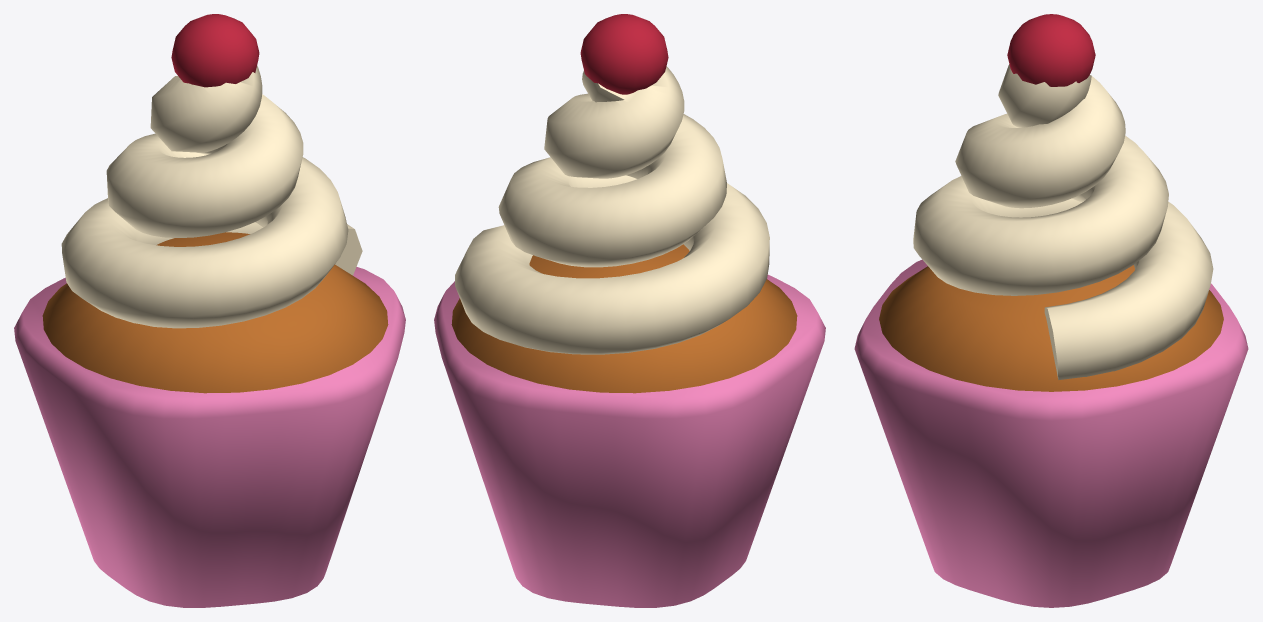
File: cupcake.glb
3 views of the same model, side by side, from view 1: azimuth 30°, elevation 25°; view 2: azimuth 150°, elevation 25°; view 3: azimuth 270°, elevation 25° (orthographic).
Parts seen in each view (by area): view 1: container_paper, edible_frosting, edible_cake, edible_berry.153; view 2: container_paper, edible_frosting, edible_cake, edible_berry.153; view 3: container_paper, edible_frosting, edible_cake, edible_berry.153.
Boxes of the visible parts, x1=… form: container_paper: x1=14, y1=267, x2=405, y2=607; edible_frosting: x1=61, y1=65, x2=362, y2=328; edible_cake: x1=42, y1=232, x2=388, y2=393; edible_berry.153: x1=171, y1=14, x2=259, y2=87; container_paper: x1=434, y1=274, x2=825, y2=607; edible_frosting: x1=455, y1=66, x2=769, y2=354; edible_cake: x1=451, y1=244, x2=797, y2=393; edible_berry.153: x1=580, y1=14, x2=668, y2=94; container_paper: x1=854, y1=259, x2=1248, y2=607; edible_frosting: x1=913, y1=64, x2=1213, y2=379; edible_cake: x1=879, y1=265, x2=1223, y2=391; edible_berry.153: x1=1007, y1=14, x2=1095, y2=86.
Size of the model in its own units: 0.1053 by 0.161 by 0.1069.
